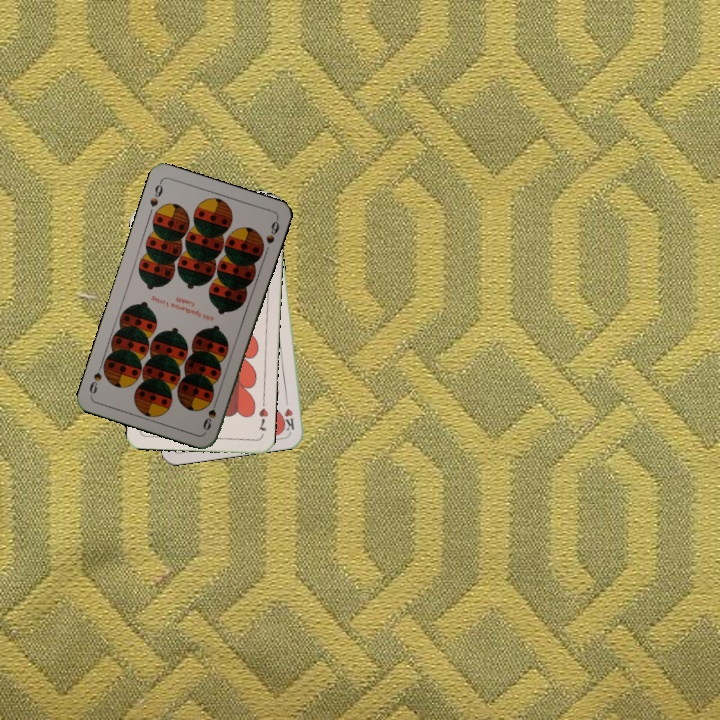H7: (255, 404, 271, 433)
HK: (281, 392, 297, 433)
S9: (199, 394, 220, 433), (146, 177, 165, 210)
